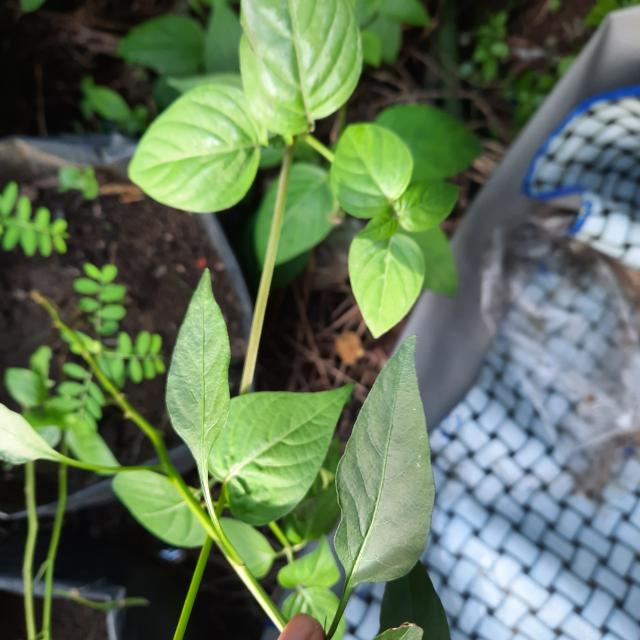sehat: (310, 323, 473, 597)
